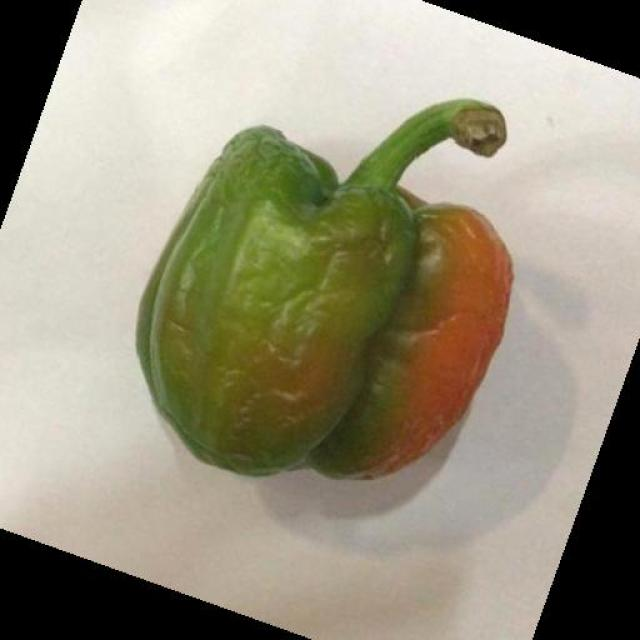Stale_Capsicum: (134, 94, 512, 478)
